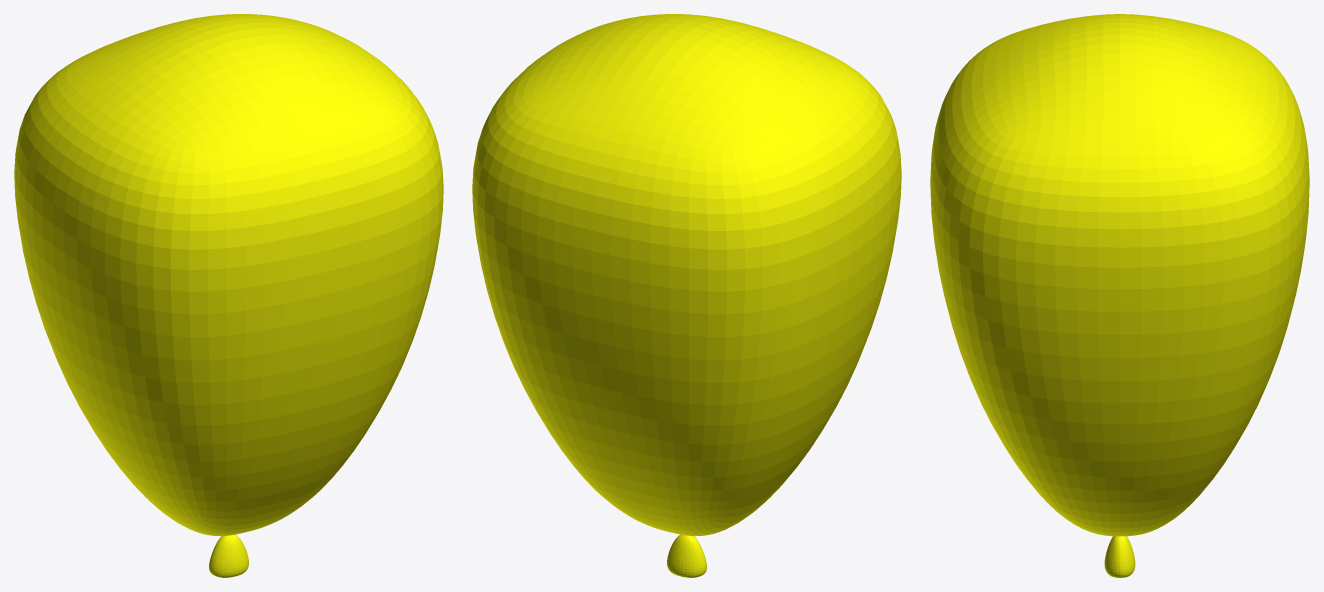
Rendered from baloon.fbx.
The picture shows the model from 3 angles, left to right: view 1: azimuth 30°, elevation 25°; view 2: azimuth 150°, elevation 25°; view 3: azimuth 270°, elevation 25°; orthographic projection.
Parts seen in each view (by area): view 1: Cube; view 2: Cube; view 3: Cube.
Boxes of the visible parts, x1,y1,x2,y2 form: Cube: (14, 14, 443, 577); Cube: (472, 14, 901, 577); Cube: (930, 14, 1309, 577).
Bounding box in the file's own units: 208 × 305 × 194.
